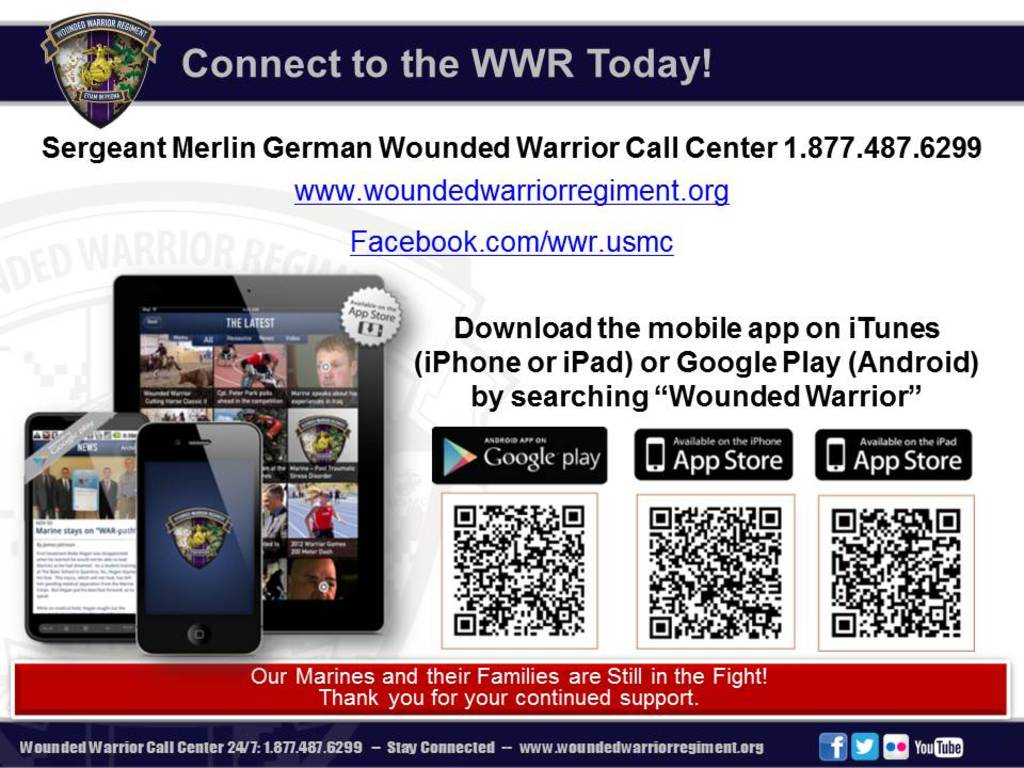mobile phone: (109, 424, 249, 643)
